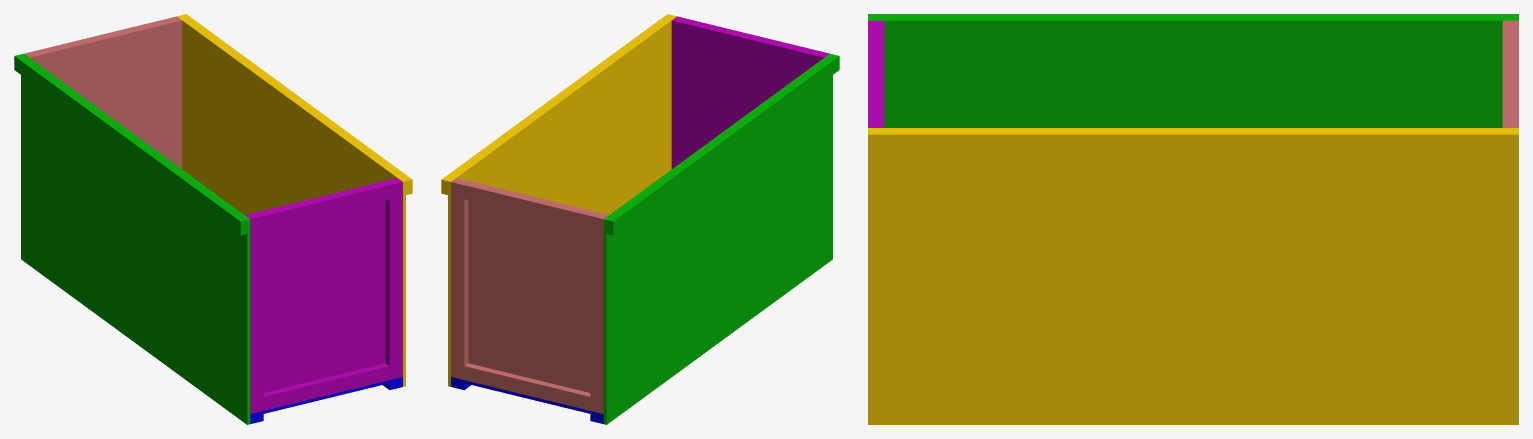
Rendered from result.glb.
3 views of the same model, side by side, from view 1: azimuth 30°, elevation 25°; view 2: azimuth 150°, elevation 25°; view 3: azimuth 270°, elevation 25° (orthographic). The views are drawn at different scales.
Parts seen in each view (by area): view 1: a8e7c078-a982-4fef-8e7d-2574fb33ad48__Box_6, 86bdf087-212b-4e4d-9a06-8c8fcc15d99c__undefined, e5322519-4c97-4a04-afda-cb42227183ab__Box_3, dacd920c-c856-49eb-ae89-2ababd133322__undefined, 185285fc-eca4-401f-85c6-e4bbcecd73dd__Box_7, 26c363db-d606-4b07-84a0-2395f3187434__undefined, 0446b539-0f14-4692-a8b2-e1926ad4949c__Box_4, 70d200ba-1b65-424d-8cae-ce1a26023757__undefined, f178b312-bb88-4cef-a768-ce1c23116682__Box_5, 57691cce-7384-4eeb-91c4-c9a2b457de8a__undefined, 7cd0367c-f9bc-48b5-a9a7-8b312a4e32c5__Box, 0a9ea53d-5811-4492-924d-b401a4a3feb3__undefined; view 2: a8e7c078-a982-4fef-8e7d-2574fb33ad48__Box_6, 86bdf087-212b-4e4d-9a06-8c8fcc15d99c__undefined, dacd920c-c856-49eb-ae89-2ababd133322__undefined, e5322519-4c97-4a04-afda-cb42227183ab__Box_3, 185285fc-eca4-401f-85c6-e4bbcecd73dd__Box_7, 5190f9bf-5a57-46ee-b669-0e5d88d430df__undefined, 3c30d6a9-be8c-4d37-b6ba-83a7064a42fd__undefined, 0a9ea53d-5811-4492-924d-b401a4a3feb3__undefined, 3dfe5eac-bd3f-45ff-96ca-c42d5e08884b__undefined, 57691cce-7384-4eeb-91c4-c9a2b457de8a__undefined, 7cd0367c-f9bc-48b5-a9a7-8b312a4e32c5__Box, 70d200ba-1b65-424d-8cae-ce1a26023757__undefined; view 3: 86bdf087-212b-4e4d-9a06-8c8fcc15d99c__undefined, a8e7c078-a982-4fef-8e7d-2574fb33ad48__Box_6, 57691cce-7384-4eeb-91c4-c9a2b457de8a__undefined, 185285fc-eca4-401f-85c6-e4bbcecd73dd__Box_7, 70d200ba-1b65-424d-8cae-ce1a26023757__undefined, 0a9ea53d-5811-4492-924d-b401a4a3feb3__undefined, e5322519-4c97-4a04-afda-cb42227183ab__Box_3, dacd920c-c856-49eb-ae89-2ababd133322__undefined.
Boxes of the visible parts, <box> form: a8e7c078-a982-4fef-8e7d-2574fb33ad48__Box_6: <box>21,53,250,424</box>; 86bdf087-212b-4e4d-9a06-8c8fcc15d99c__undefined: <box>177,15,405,386</box>; e5322519-4c97-4a04-afda-cb42227183ab__Box_3: <box>245,178,398,392</box>; dacd920c-c856-49eb-ae89-2ababd133322__undefined: <box>28,19,182,168</box>; 185285fc-eca4-401f-85c6-e4bbcecd73dd__Box_7: <box>14,54,247,235</box>; 26c363db-d606-4b07-84a0-2395f3187434__undefined: <box>385,179,402,379</box>; 0446b539-0f14-4692-a8b2-e1926ad4949c__Box_4: <box>247,213,263,413</box>; 70d200ba-1b65-424d-8cae-ce1a26023757__undefined: <box>260,182,389,229</box>; f178b312-bb88-4cef-a768-ce1c23116682__Box_5: <box>263,363,389,410</box>; 57691cce-7384-4eeb-91c4-c9a2b457de8a__undefined: <box>180,14,412,194</box>; 7cd0367c-f9bc-48b5-a9a7-8b312a4e32c5__Box: <box>250,377,402,416</box>; 0a9ea53d-5811-4492-924d-b401a4a3feb3__undefined: <box>38,19,166,52</box>; a8e7c078-a982-4fef-8e7d-2574fb33ad48__Box_6: <box>603,53,832,424</box>; 86bdf087-212b-4e4d-9a06-8c8fcc15d99c__undefined: <box>448,15,676,386</box>; dacd920c-c856-49eb-ae89-2ababd133322__undefined: <box>455,178,608,392</box>; e5322519-4c97-4a04-afda-cb42227183ab__Box_3: <box>671,19,825,168</box>; 185285fc-eca4-401f-85c6-e4bbcecd73dd__Box_7: <box>606,54,839,235</box>; 5190f9bf-5a57-46ee-b669-0e5d88d430df__undefined: <box>451,179,468,379</box>; 3c30d6a9-be8c-4d37-b6ba-83a7064a42fd__undefined: <box>590,213,606,413</box>; 0a9ea53d-5811-4492-924d-b401a4a3feb3__undefined: <box>464,182,593,229</box>; 3dfe5eac-bd3f-45ff-96ca-c42d5e08884b__undefined: <box>464,363,590,410</box>; 57691cce-7384-4eeb-91c4-c9a2b457de8a__undefined: <box>441,14,673,194</box>; 7cd0367c-f9bc-48b5-a9a7-8b312a4e32c5__Box: <box>451,377,603,416</box>; 70d200ba-1b65-424d-8cae-ce1a26023757__undefined: <box>687,19,815,52</box>; 86bdf087-212b-4e4d-9a06-8c8fcc15d99c__undefined: <box>868,128,1518,424</box>; a8e7c078-a982-4fef-8e7d-2574fb33ad48__Box_6: <box>868,18,1518,127</box>; 57691cce-7384-4eeb-91c4-c9a2b457de8a__undefined: <box>868,130,1518,154</box>; 185285fc-eca4-401f-85c6-e4bbcecd73dd__Box_7: <box>868,14,1518,18</box>; 70d200ba-1b65-424d-8cae-ce1a26023757__undefined: <box>868,30,879,118</box>; 0a9ea53d-5811-4492-924d-b401a4a3feb3__undefined: <box>1507,30,1518,118</box>; e5322519-4c97-4a04-afda-cb42227183ab__Box_3: <box>879,20,884,127</box>; dacd920c-c856-49eb-ae89-2ababd133322__undefined: <box>1502,20,1507,127</box>.
Bounding box in the file's own units: 462 × 526 × 1052.
